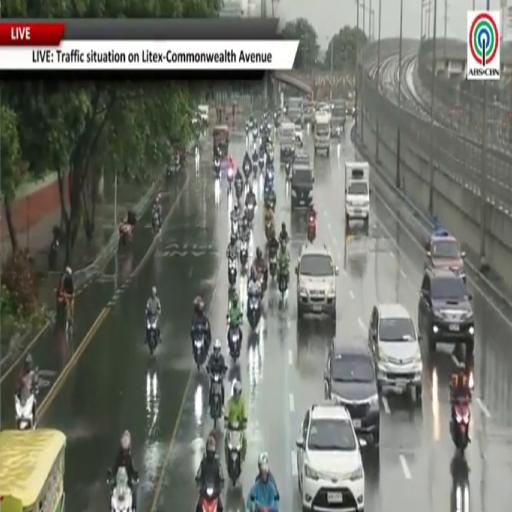car: (297, 403, 364, 511), (324, 338, 380, 446), (369, 303, 422, 398), (418, 268, 474, 355), (295, 245, 338, 319), (426, 232, 465, 281), (290, 163, 314, 210), (294, 151, 310, 166), (294, 124, 304, 147)
jeepney: (0, 429, 65, 511), (213, 125, 229, 157)
motorcycle: (107, 467, 136, 511), (227, 423, 244, 486), (451, 400, 470, 454), (15, 388, 35, 429), (210, 374, 223, 428), (119, 212, 136, 246), (194, 329, 207, 370), (200, 483, 219, 511), (146, 315, 158, 355), (247, 295, 260, 330), (228, 326, 241, 361), (48, 236, 59, 271), (119, 222, 133, 246), (279, 269, 288, 300), (258, 271, 267, 298), (265, 190, 276, 212), (152, 210, 161, 235), (240, 239, 248, 267), (307, 215, 315, 243), (228, 258, 236, 285), (269, 254, 277, 280), (265, 219, 274, 241), (265, 166, 274, 186), (245, 203, 254, 222), (227, 167, 233, 193), (231, 218, 239, 237), (243, 162, 251, 181), (235, 180, 242, 199), (214, 159, 220, 179), (252, 153, 258, 171), (258, 156, 264, 171), (285, 163, 290, 179), (267, 150, 273, 163), (252, 126, 258, 139), (267, 122, 272, 135), (245, 124, 250, 136)
truck: (345, 163, 369, 232), (291, 158, 314, 210), (314, 112, 330, 155), (280, 122, 295, 164), (330, 99, 346, 138), (287, 98, 303, 125), (198, 105, 209, 125)
